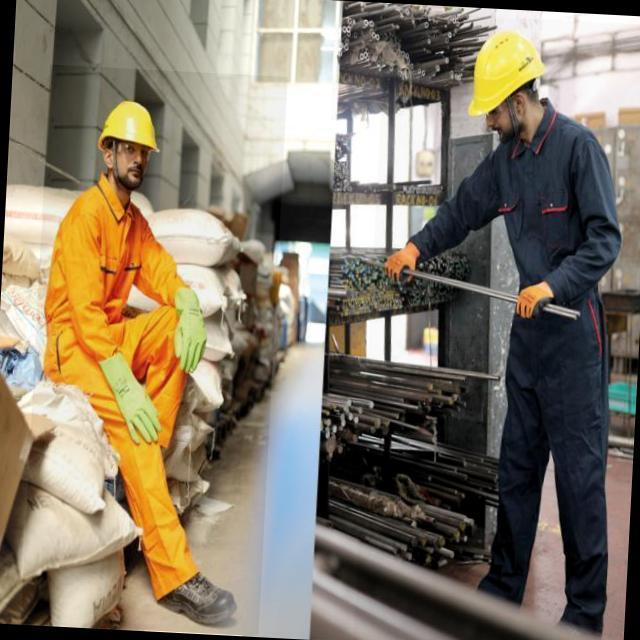Gloves: (100, 355, 164, 460), (167, 283, 223, 379), (506, 276, 560, 326), (380, 242, 432, 289)
Helmet: (458, 19, 555, 127), (91, 94, 171, 163)
Person: (370, 12, 632, 640), (30, 59, 253, 640)
Safety Boot: (145, 553, 247, 637)
no-vest: (412, 104, 624, 323), (40, 173, 188, 402)
